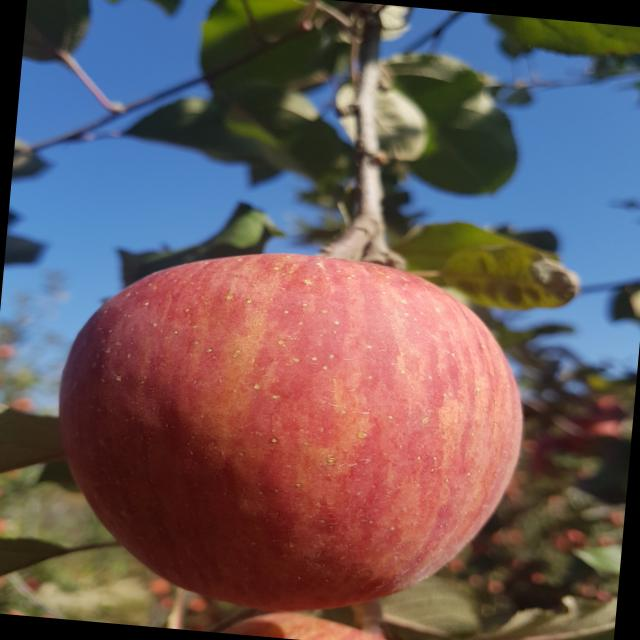fresh: (26, 218, 558, 640)
